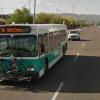Bus: (1, 17, 70, 85)
